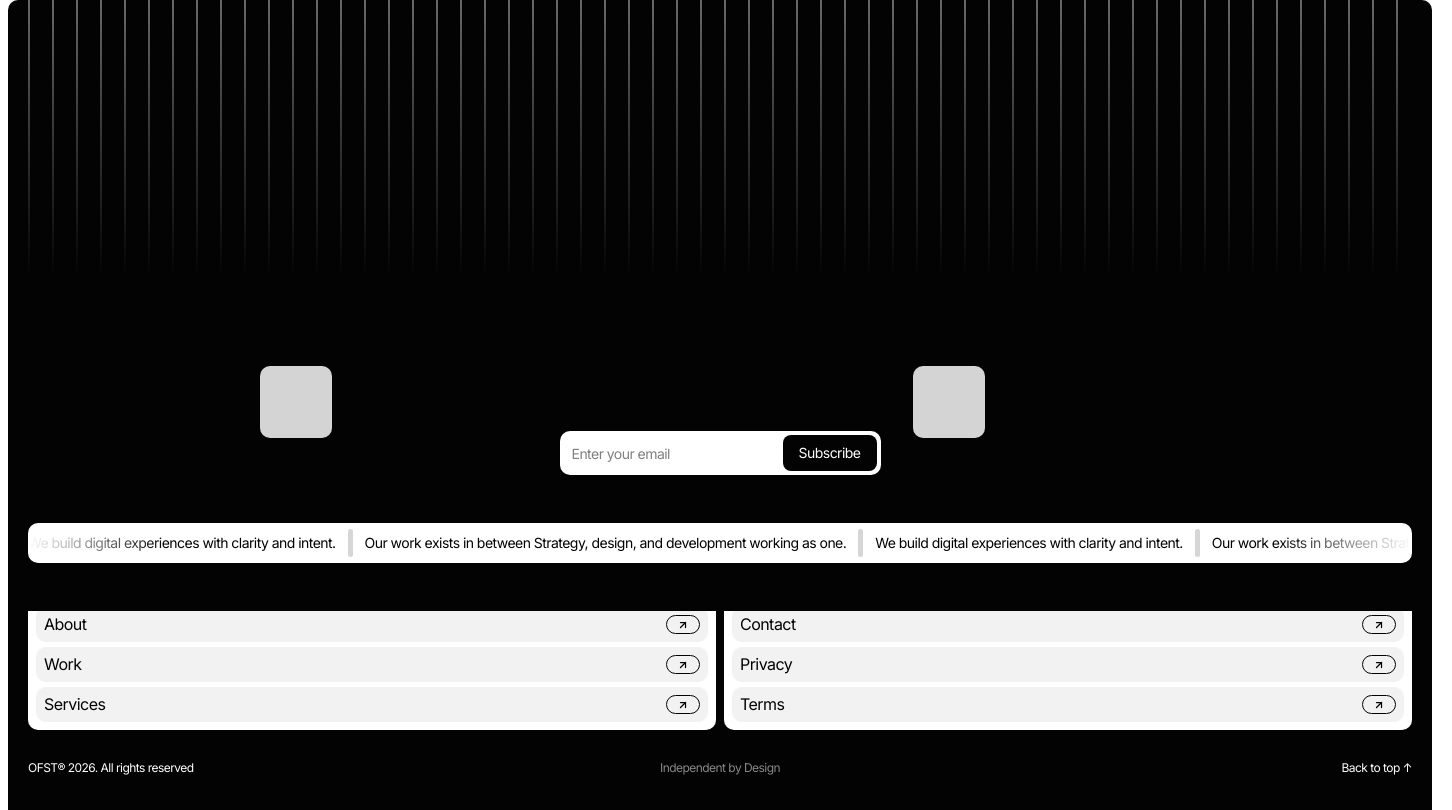
Scenario: FooterSection › submits the newsletter form and displays status feedback
This screenshot has width=1452, height=810.
Type "test@example.com" into the field with placeholder "Enter your email". click: {"x": 720, "y": 453}
box: x1=560 y1=431 x2=880 y2=475
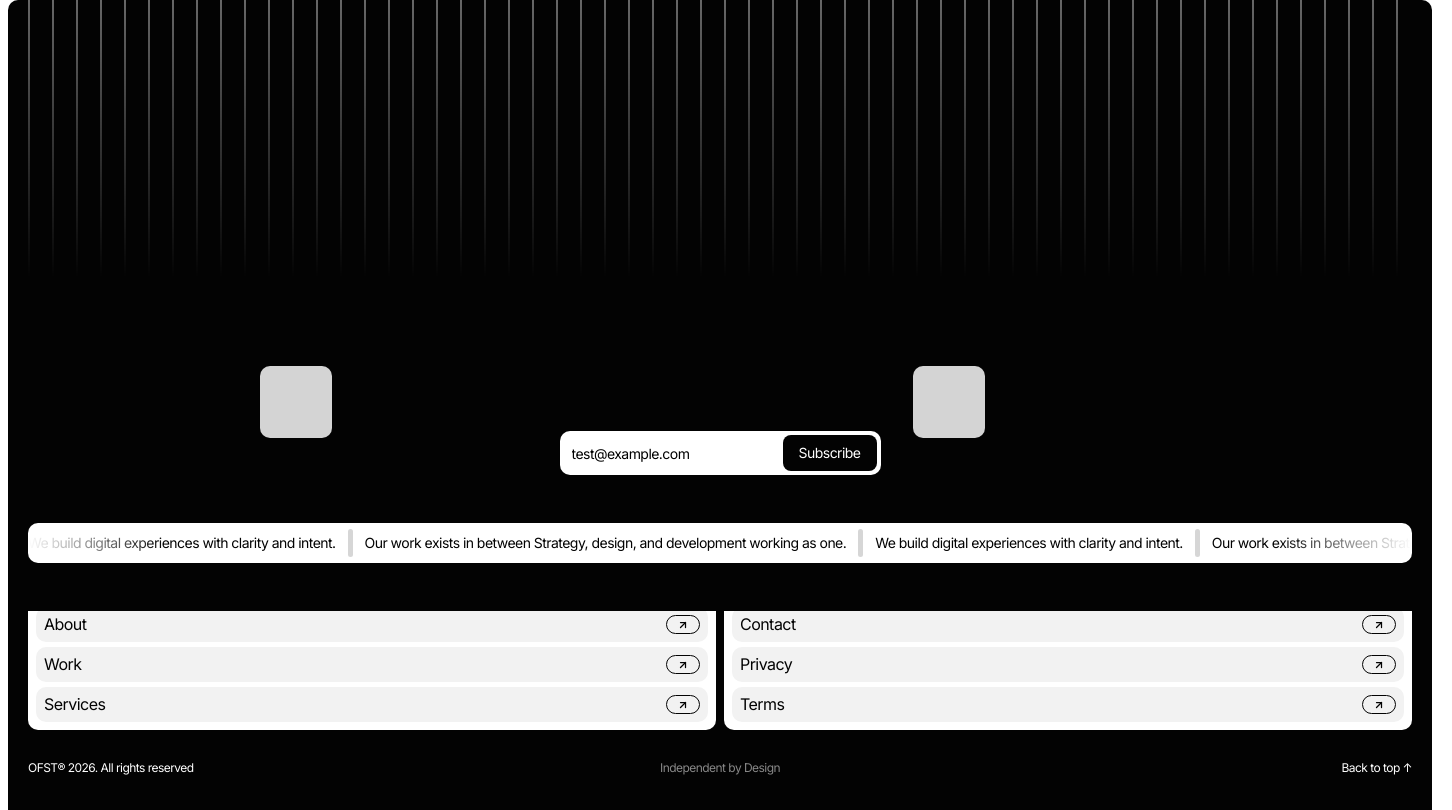
Submit the form with placeholder "enter your email", box x1=560 y1=431 x2=880 y2=475
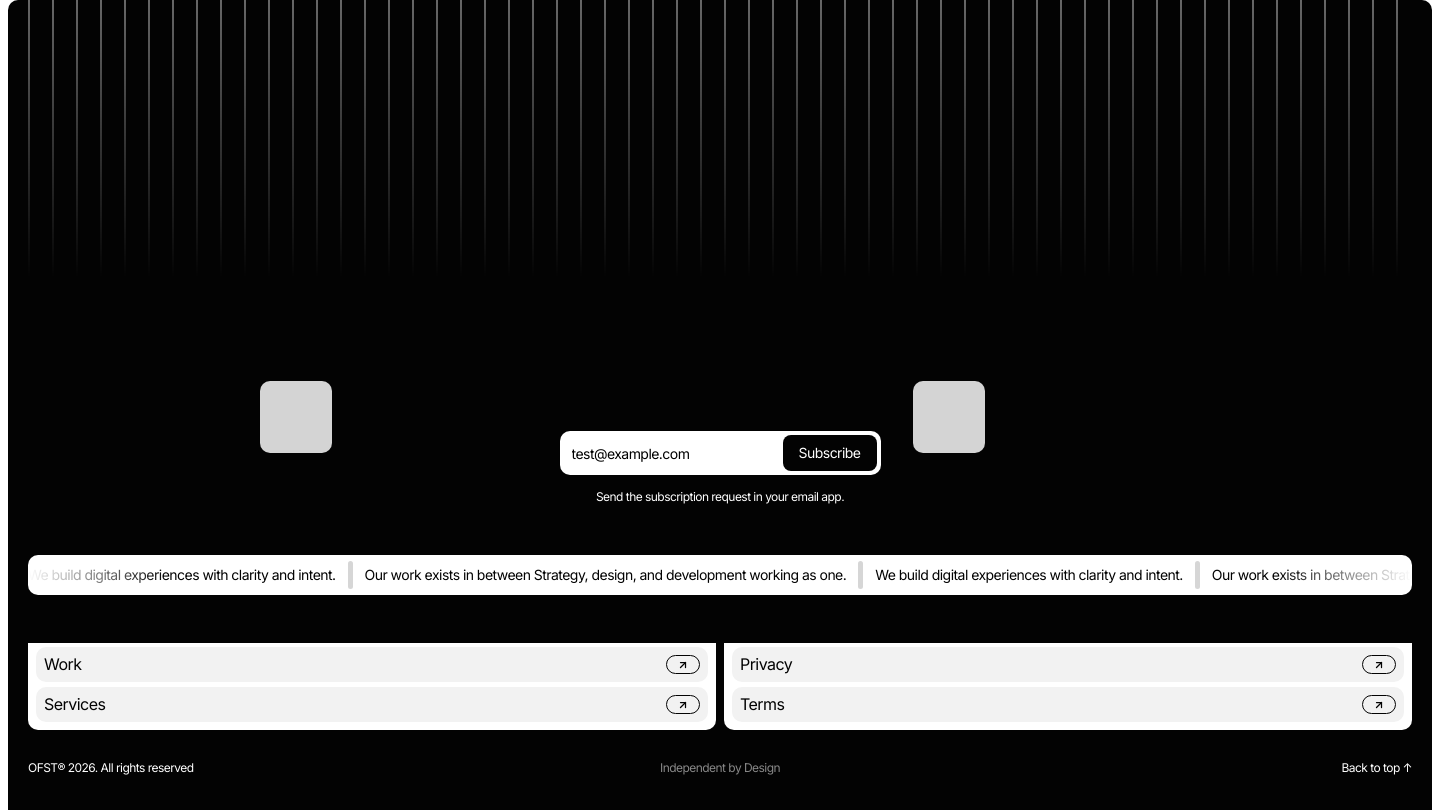
Now the text "Send the subscription request in your email app." is shown, box x1=596 y1=489 x2=844 y2=504
